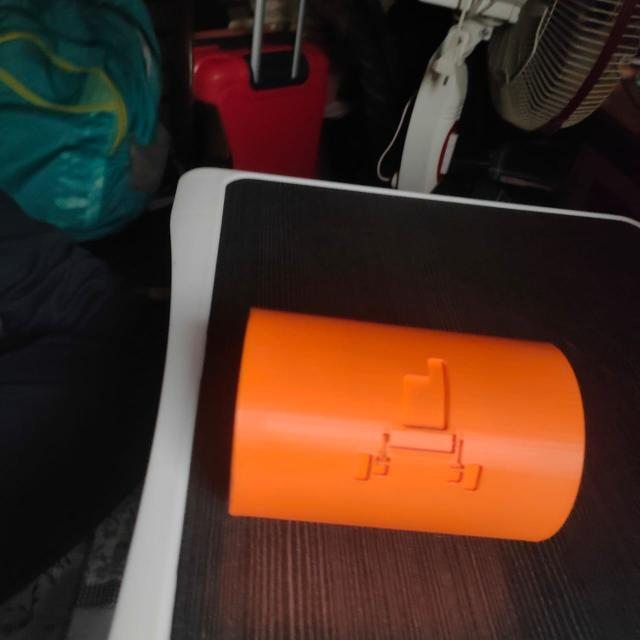Cylinder: (226, 305, 586, 543)
